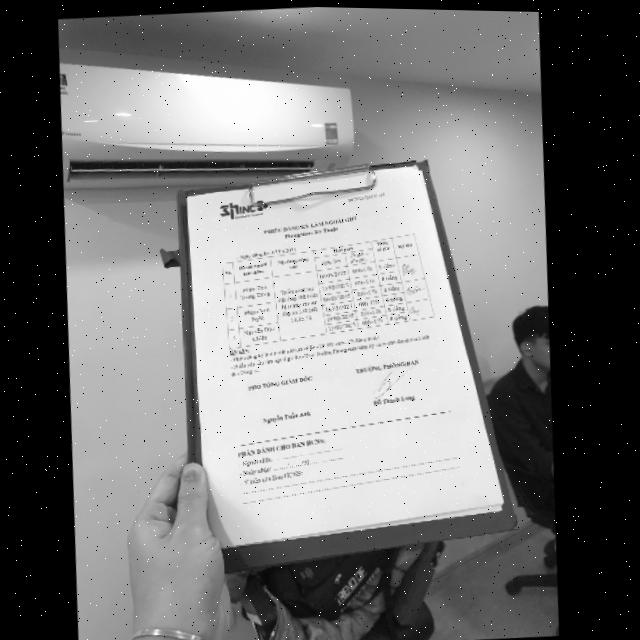document: (186, 164, 505, 550)
